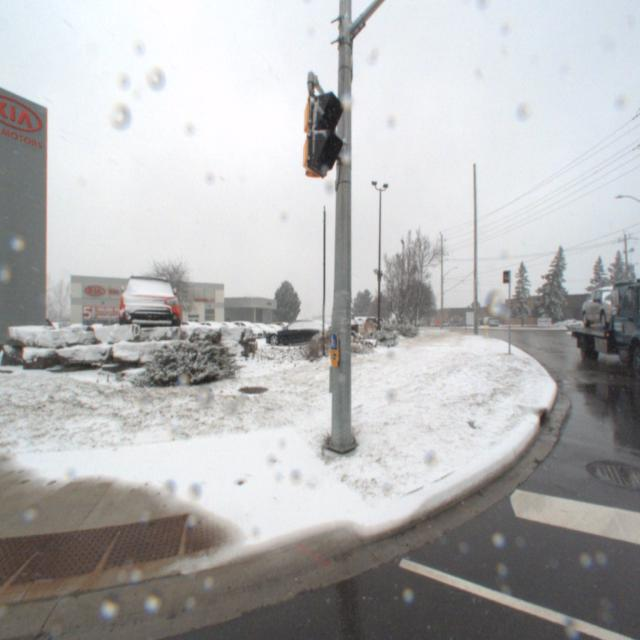Car: (112, 260, 184, 332), (257, 316, 340, 350), (280, 315, 348, 347), (163, 317, 215, 341), (191, 317, 233, 339), (205, 318, 246, 338), (223, 318, 263, 338), (237, 319, 279, 337), (106, 318, 124, 332)
